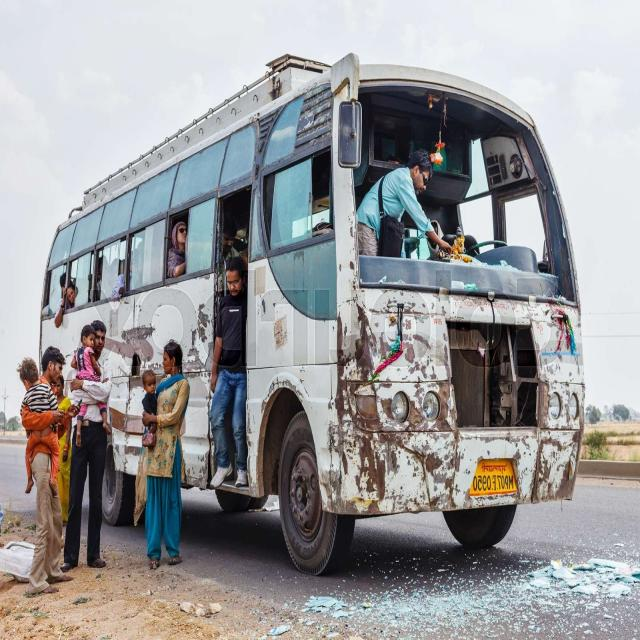accident: (40, 54, 585, 572)
